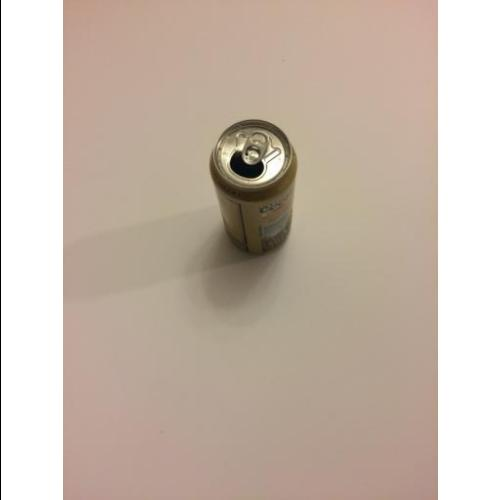metal: (213, 120, 294, 253)
